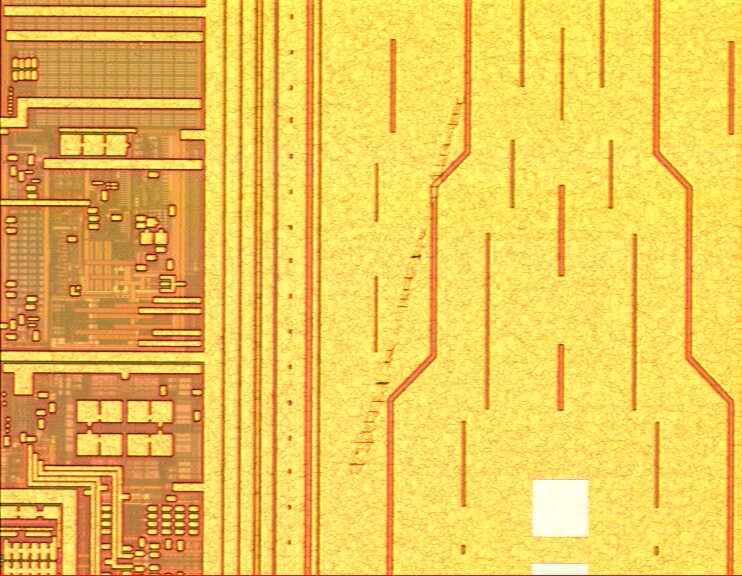SCRATCH: (323, 76, 475, 546)
